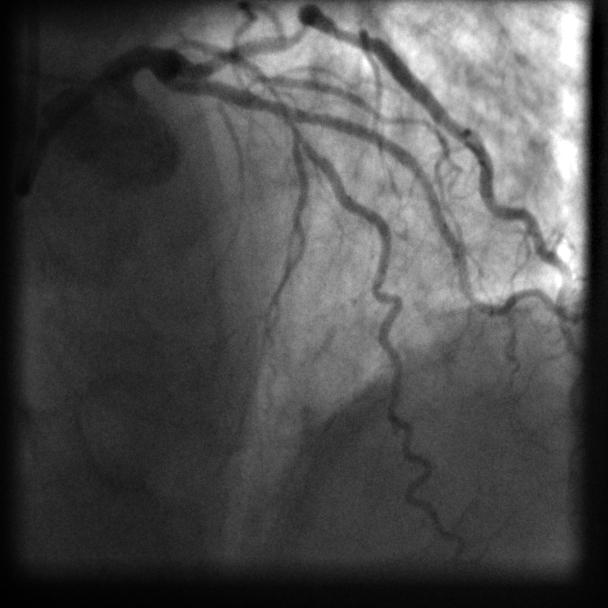Stenosis: (260, 70, 298, 131)
